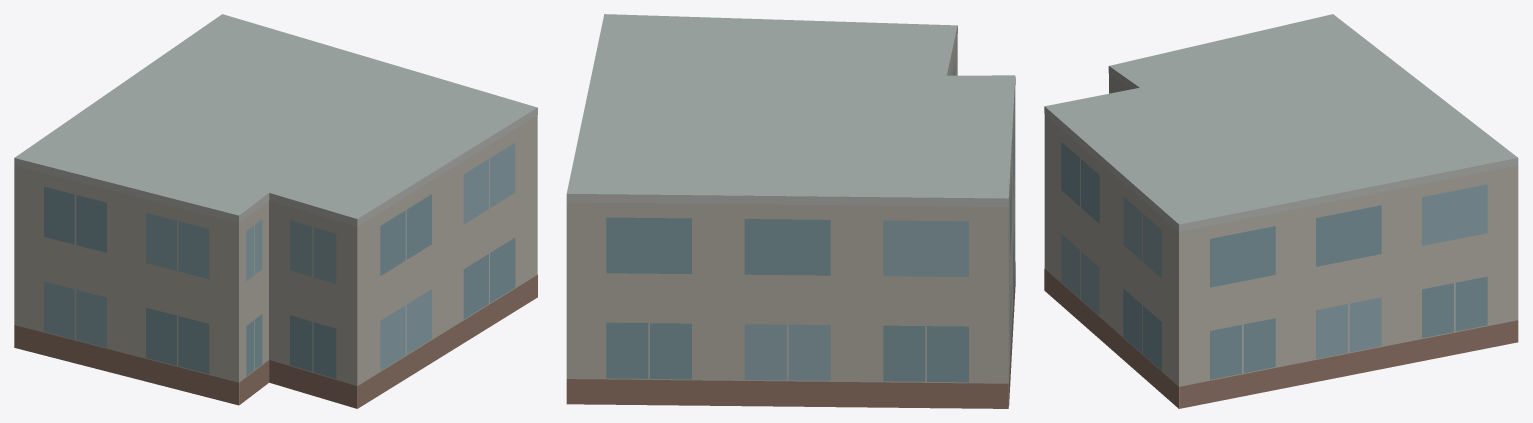
Rendered from survey-upis-32761290.glb.
3 renders of one model, left to right at view 1: azimuth 30°, elevation 25°; view 2: azimuth 150°, elevation 25°; view 3: azimuth 270°, elevation 25°, orthographic. The views are drawn at different scales.
Visible parts, largest first — view 1: survey-upis-32761290.tmp; view 2: survey-upis-32761290.tmp; view 3: survey-upis-32761290.tmp.
Boxes of the visible parts, x1,y1,x2,y2 form: survey-upis-32761290.tmp: (14, 14, 537, 408); survey-upis-32761290.tmp: (566, 14, 1015, 408); survey-upis-32761290.tmp: (1044, 14, 1518, 408).
Size of the model in its own units: 14.95 by 6.1 by 14.22.
